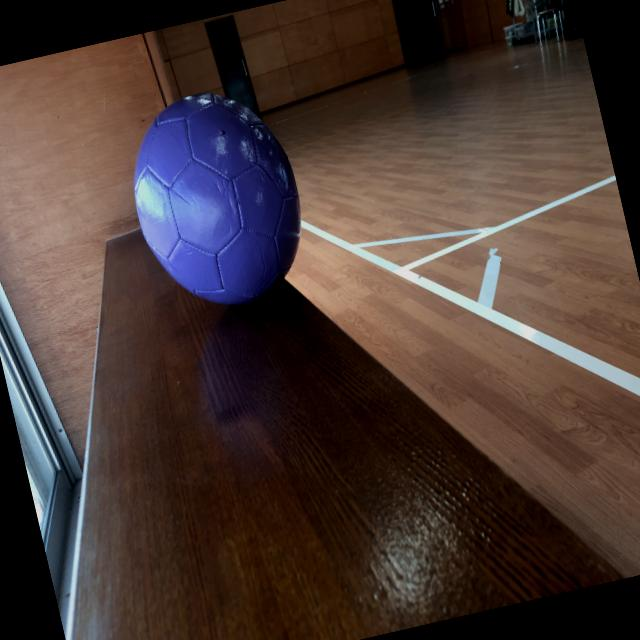purple_ball: (114, 74, 320, 325)
